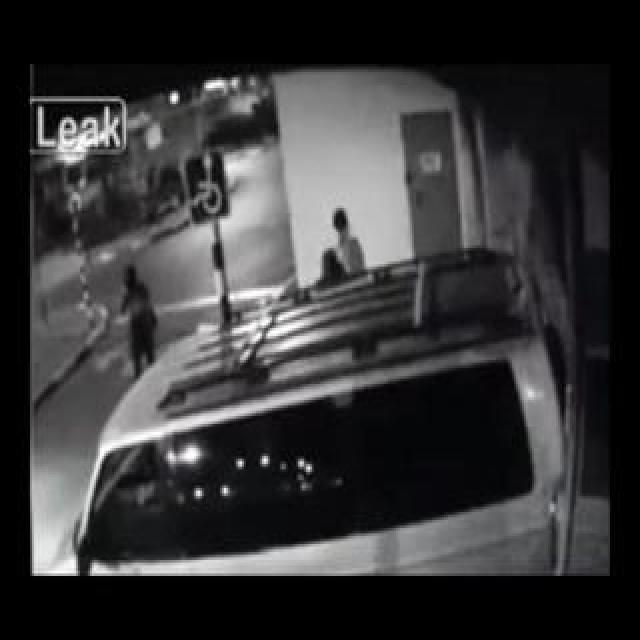burglary: (466, 224, 607, 544)
